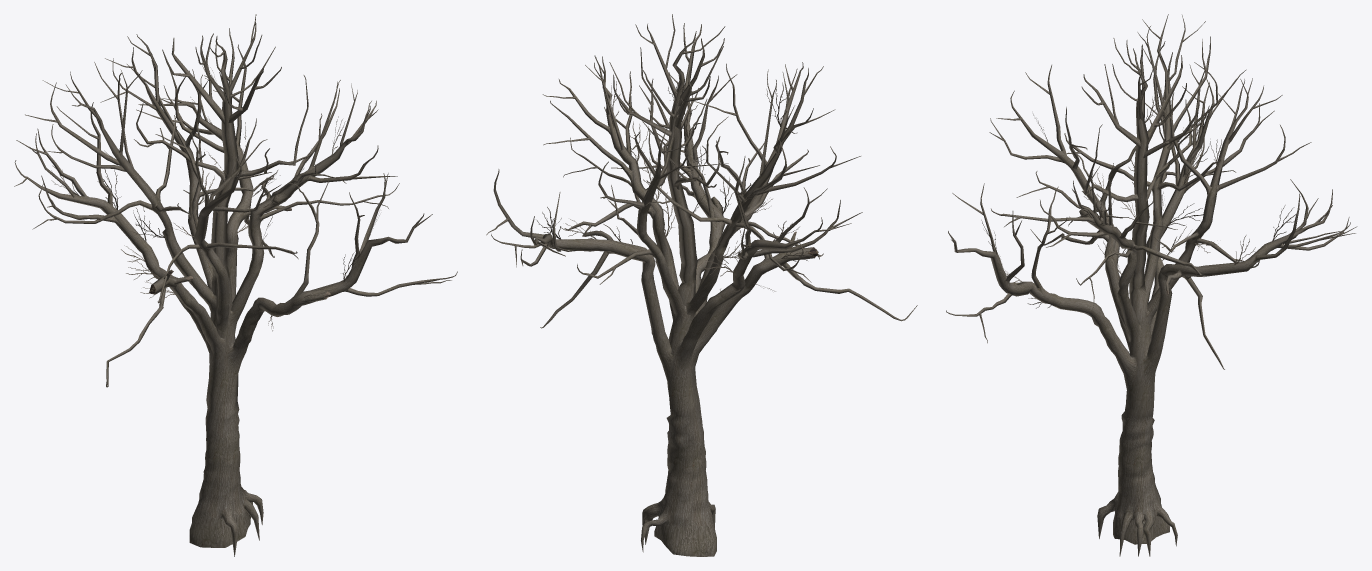
Rendered from oak-raised-winter.gltf.
3 views of the same model, side by side, from view 1: azimuth 30°, elevation 25°; view 2: azimuth 150°, elevation 25°; view 3: azimuth 270°, elevation 25° (orthographic). The views are drawn at different scales.
Visible parts, largest first — view 1: White oak raised crown winter; view 2: White oak raised crown winter; view 3: White oak raised crown winter.
Part boxes in pixels (bbox=[...]): White oak raised crown winter: bbox=[14, 14, 457, 556]; White oak raised crown winter: bbox=[486, 14, 917, 556]; White oak raised crown winter: bbox=[946, 14, 1357, 556].
Bounding box in the file's own units: 715 × 1036 × 782.
Materials: 3 (3 with a texture image).
